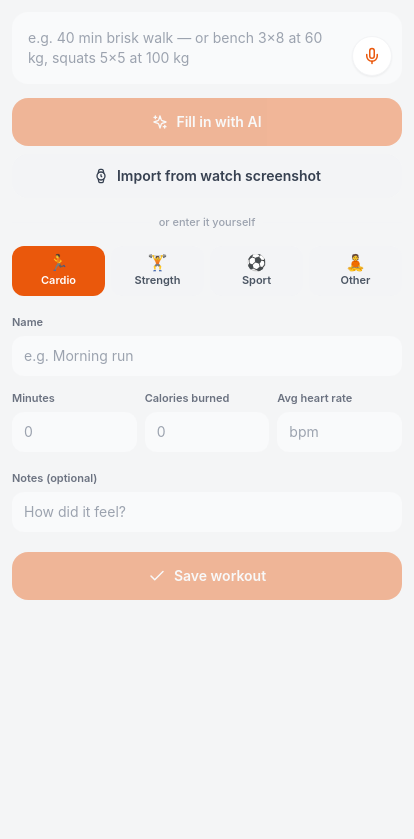
Scenario: WorkoutForm › lets each exercise use its own unit, and remembers it next time
Earlier steps of the test are not shown.
Click the button "🏋️ Strength".
click(158, 271)  # box [111,246,204,296]
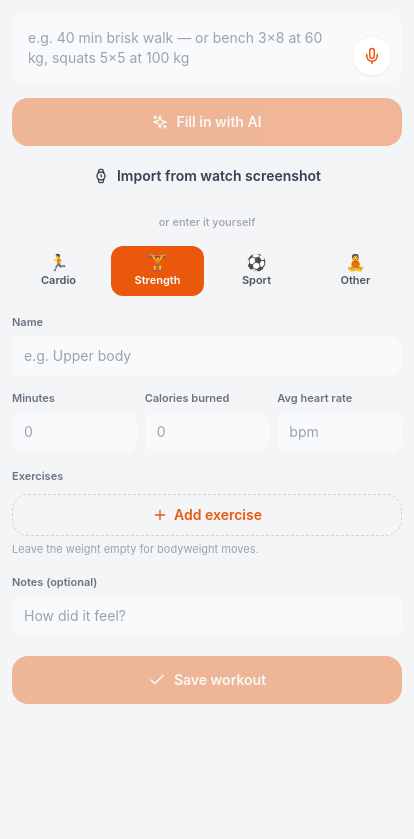
Click the button "Add exercise".
click(207, 515)  # box [12,494,402,536]
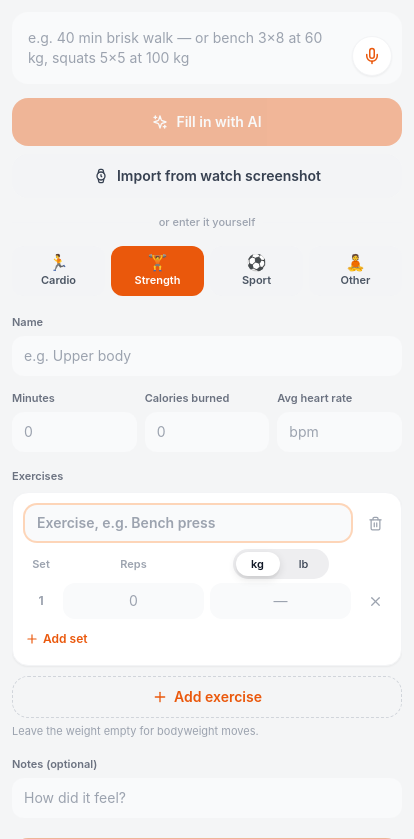
Type "dumbbell curl" into the field named "Exercise 1 name".
click(188, 523); type("dumbbell curl")  # box [25,505,351,541]
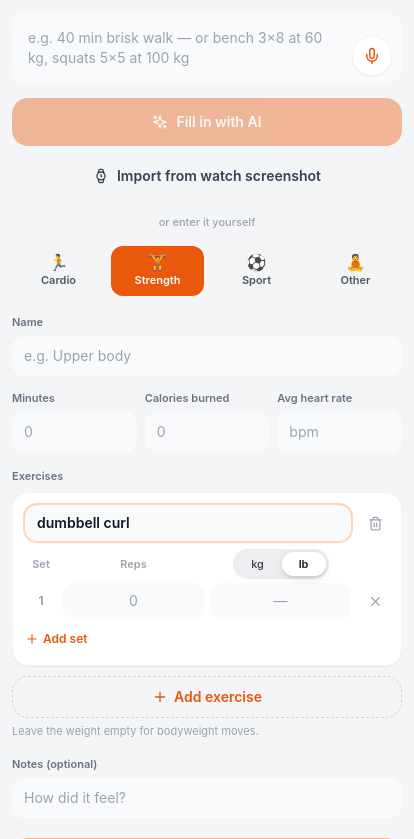
Result: the button "lb" is pressed at [282,552,326,576]
